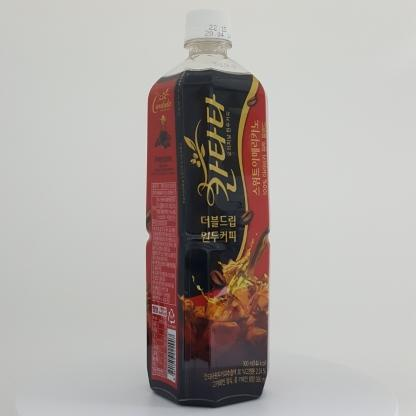-----------900ML: (146, 9, 270, 408)
